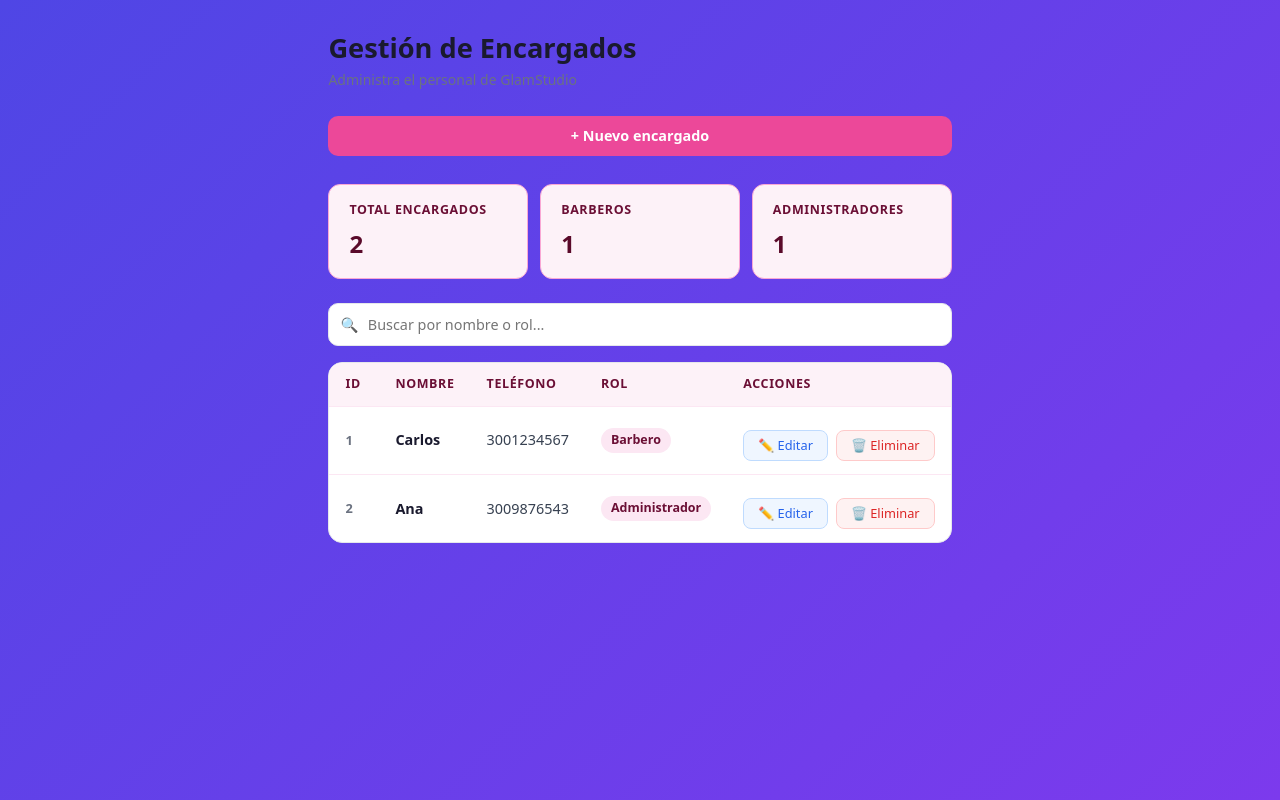
GestionEncargados › muestra error si teléfono no tiene 10 dígitos
Click the button "+ Nuevo encargado": (640, 136) [328,116,952,156]
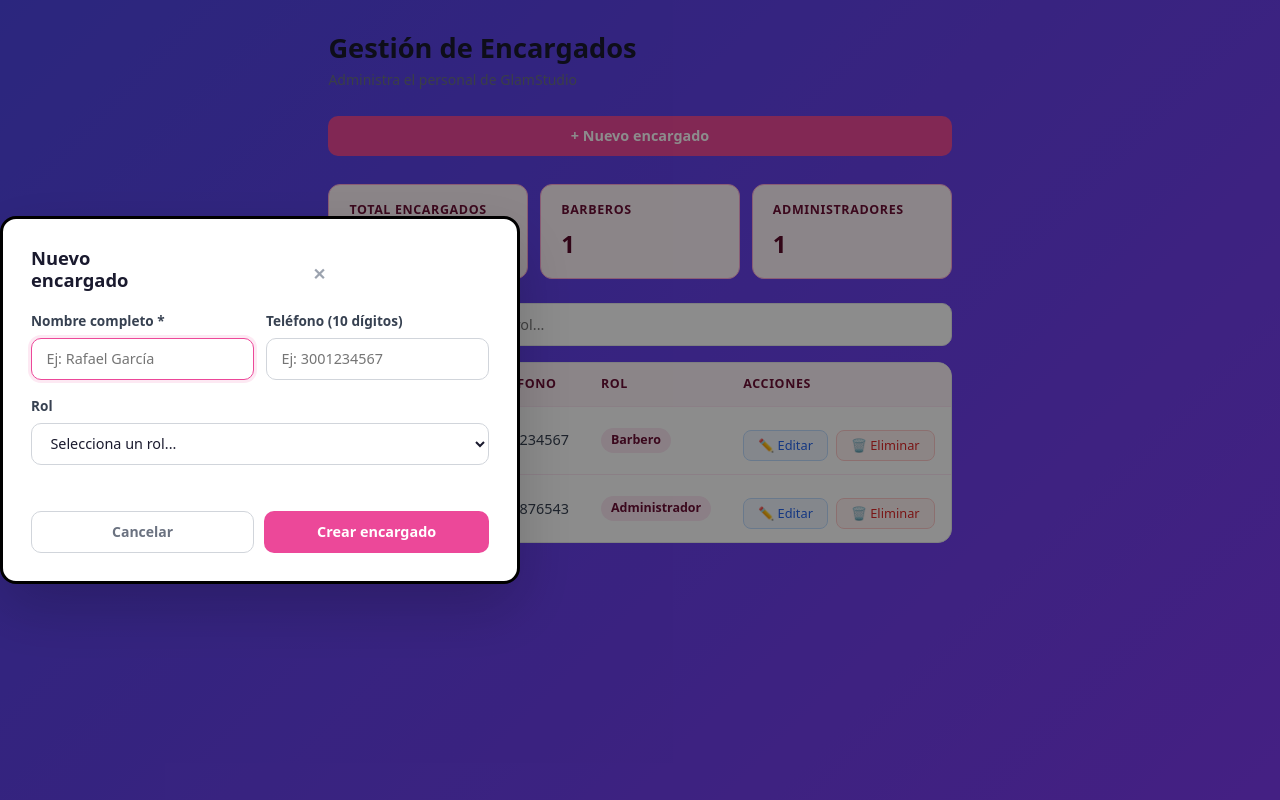
In the field with placeholder "Ej: Rafael García": (142, 359) [31,338,254,380], type "Carlos"
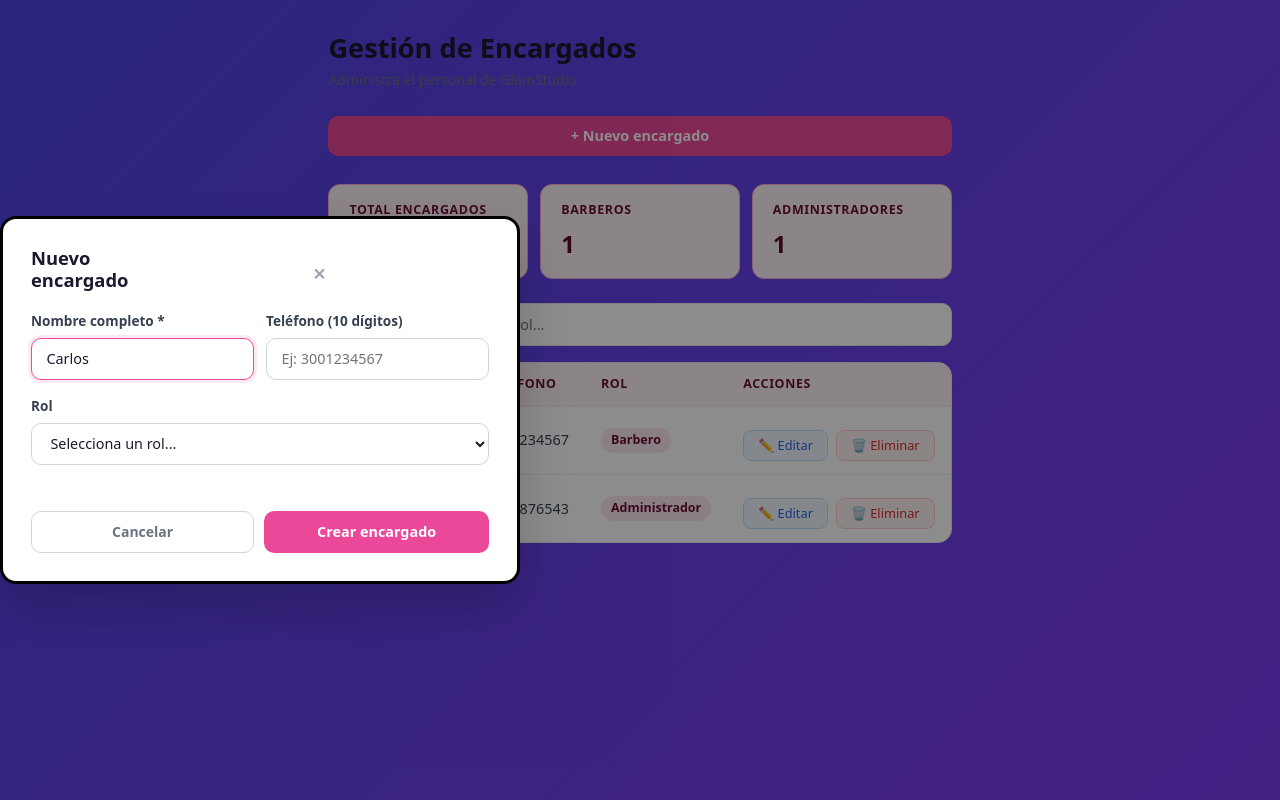
In the field with placeholder "Ej: 3001234567": (378, 359) [266,338,489,380], type "123"
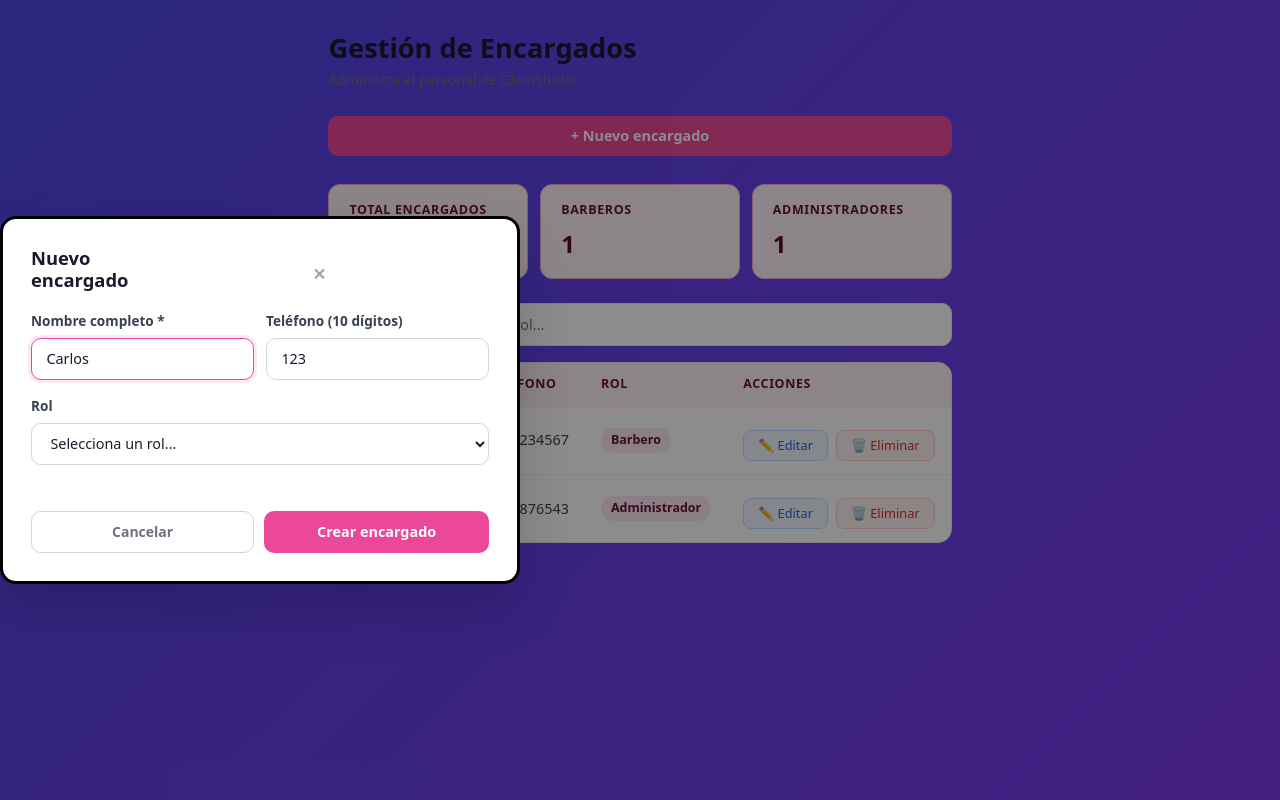
Click the button "Crear encargado": (377, 532) [264,511,489,553]
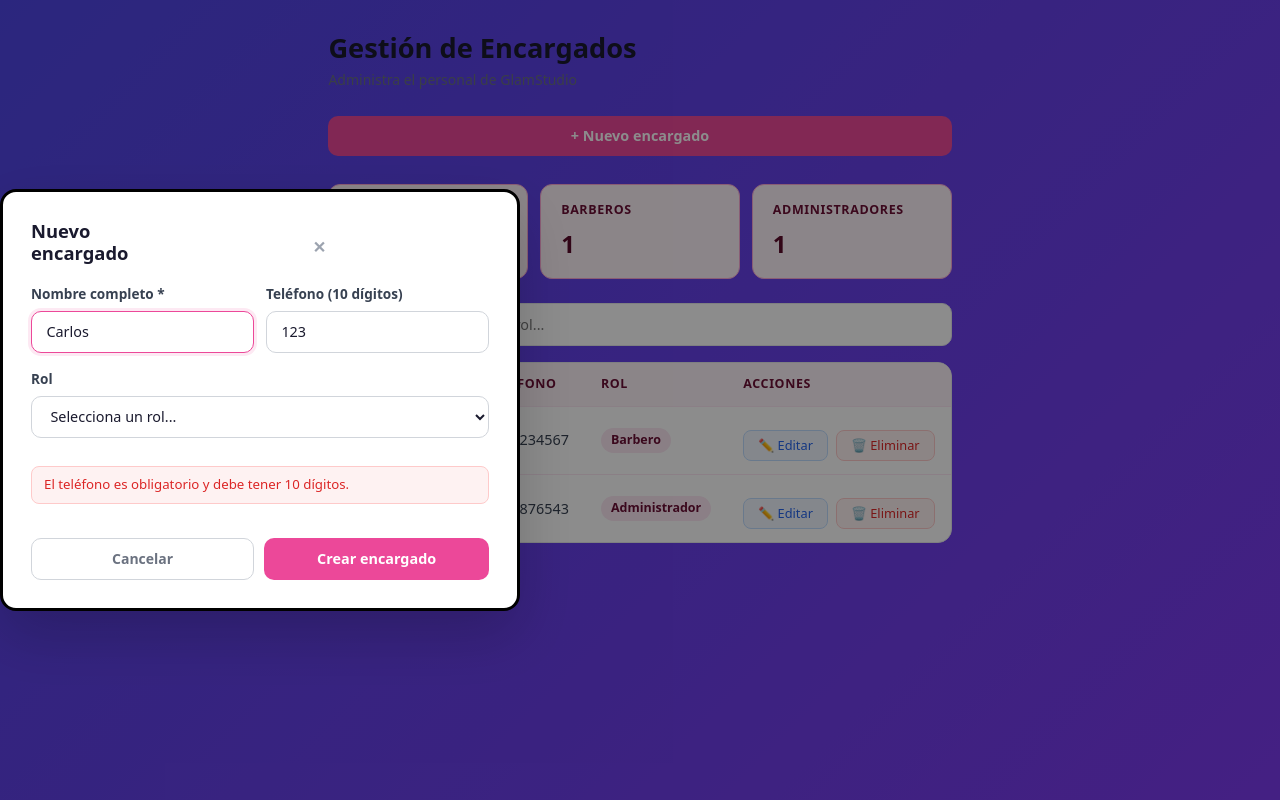
Result: the text "El teléfono es obligatorio y debe tener 10 dígitos." is shown at [31,466,489,504]
